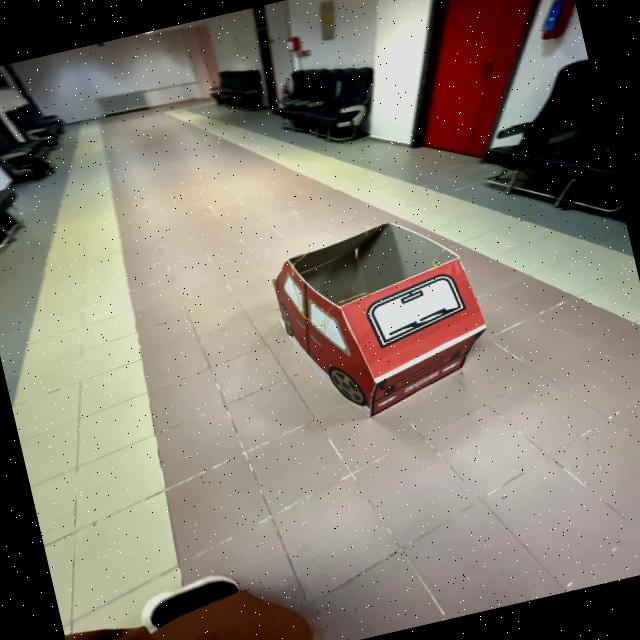red_car: (236, 188, 546, 453)
